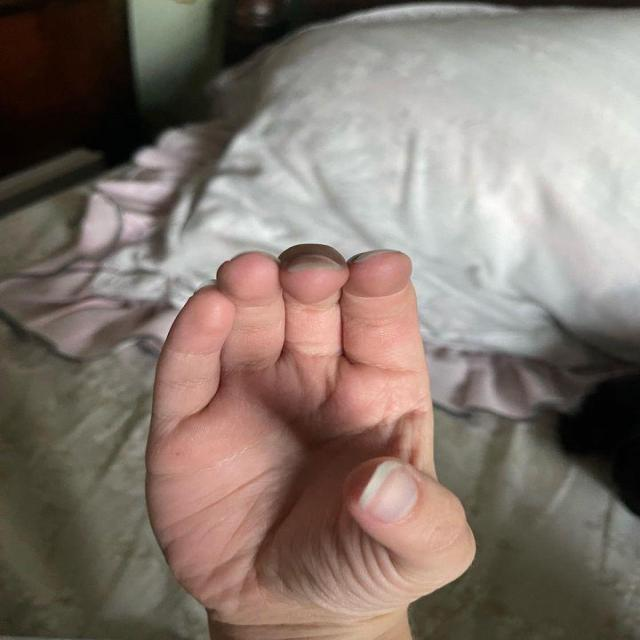C: (137, 236, 482, 621)
